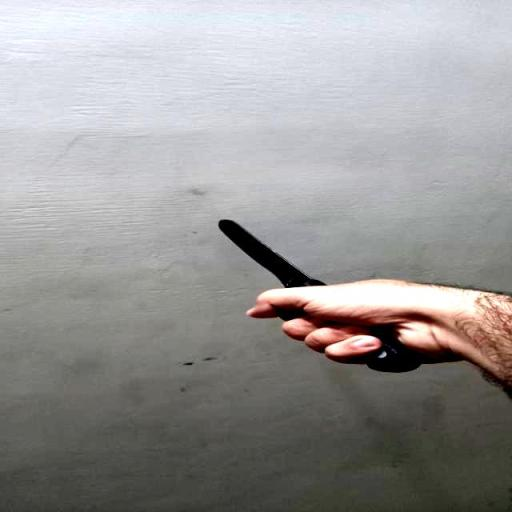knife: (220, 220, 422, 372)
